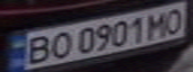0: (72, 25, 96, 54), (109, 18, 133, 47)
1: (127, 15, 151, 43)
9: (93, 21, 115, 52)
B: (18, 34, 54, 65)
M: (142, 8, 175, 38)
O: (160, 3, 190, 35), (45, 29, 75, 60)
